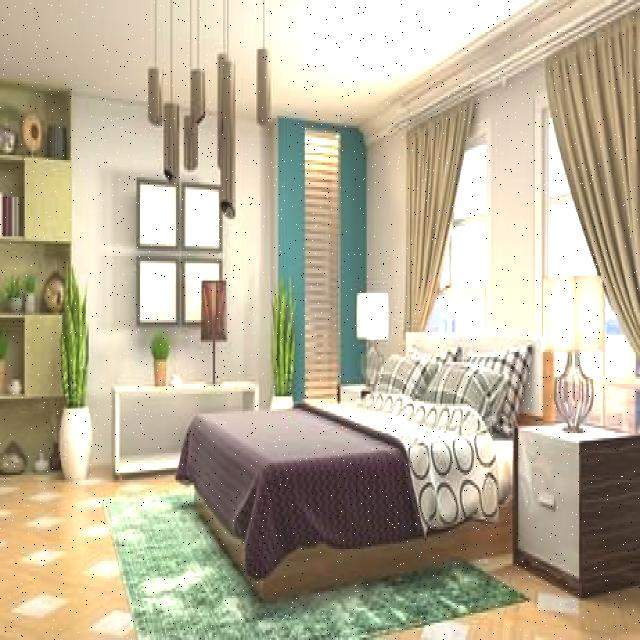bed: (187, 317, 557, 558)
